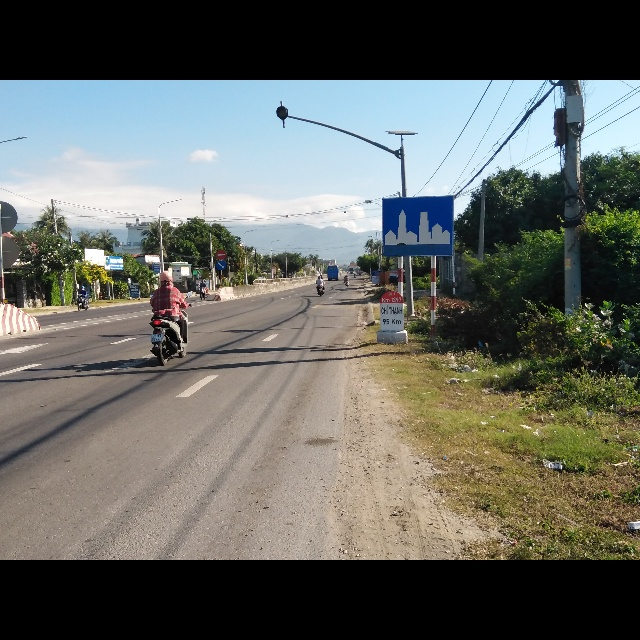Khu đông dân cư: (381, 196, 453, 258)
